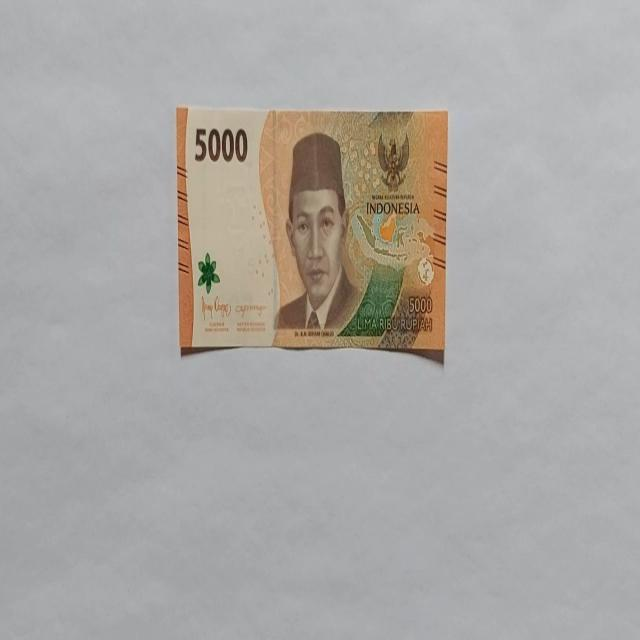lima ribu rupiah: (174, 106, 450, 368), (273, 130, 362, 334)
